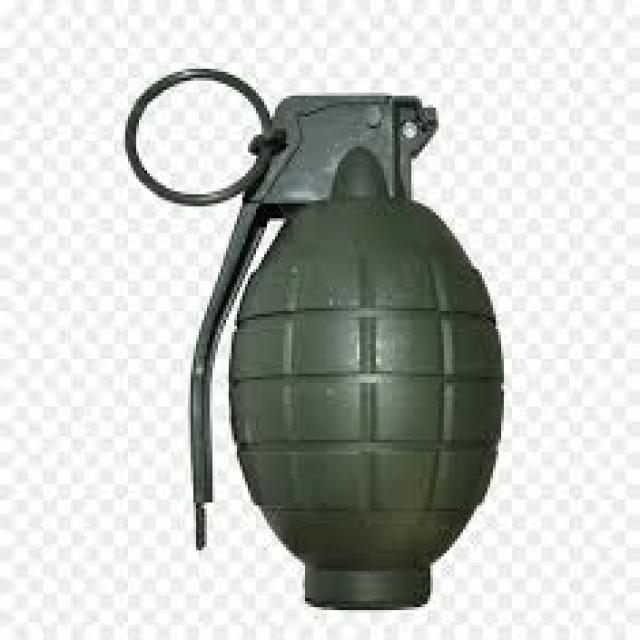grenade: (114, 64, 518, 617)
